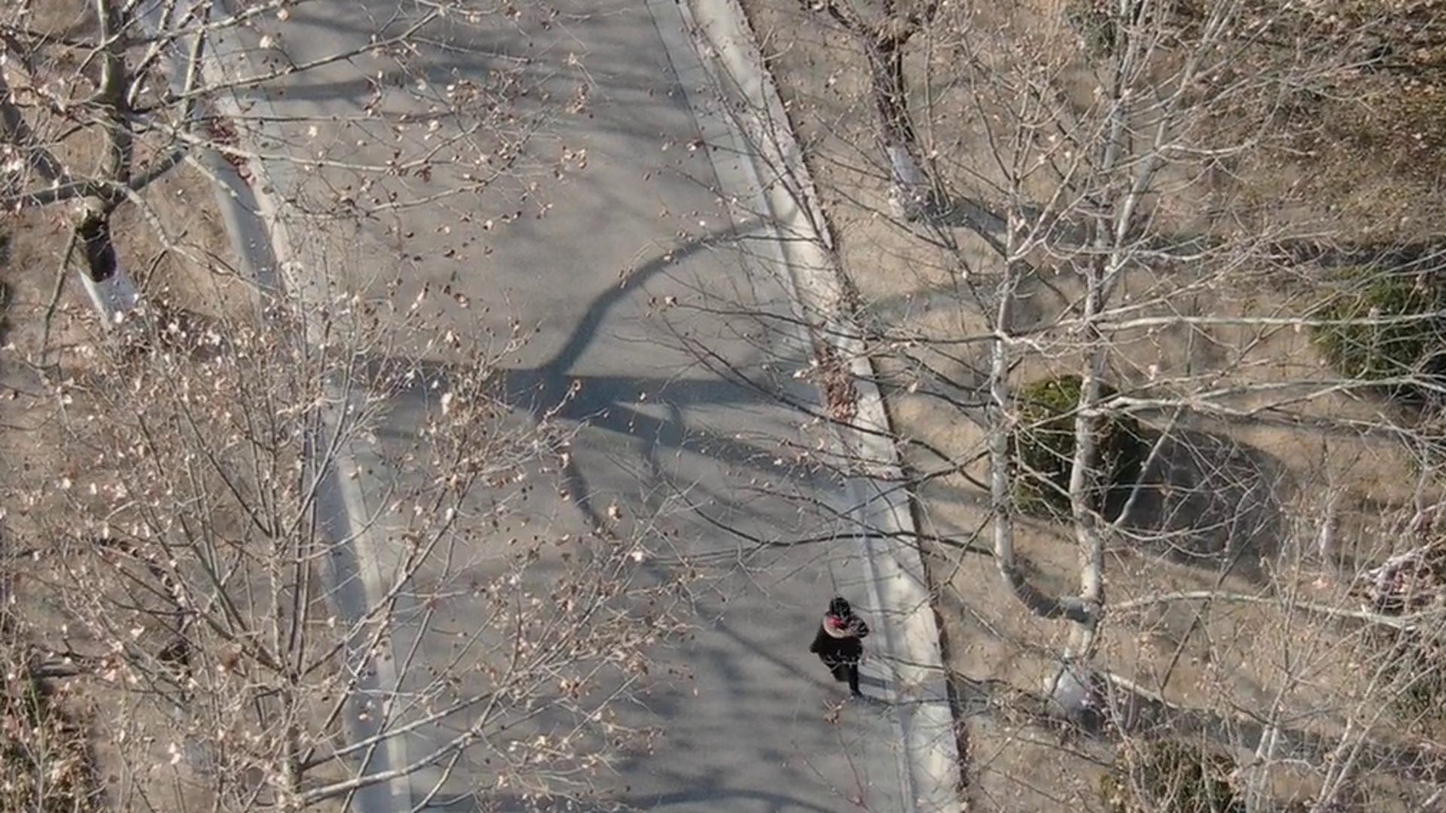human: (822, 585, 880, 705)
